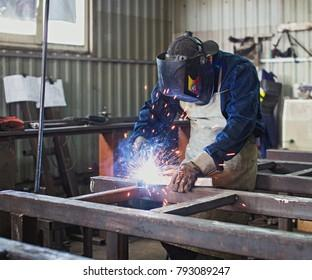gloves: (169, 151, 217, 193)
